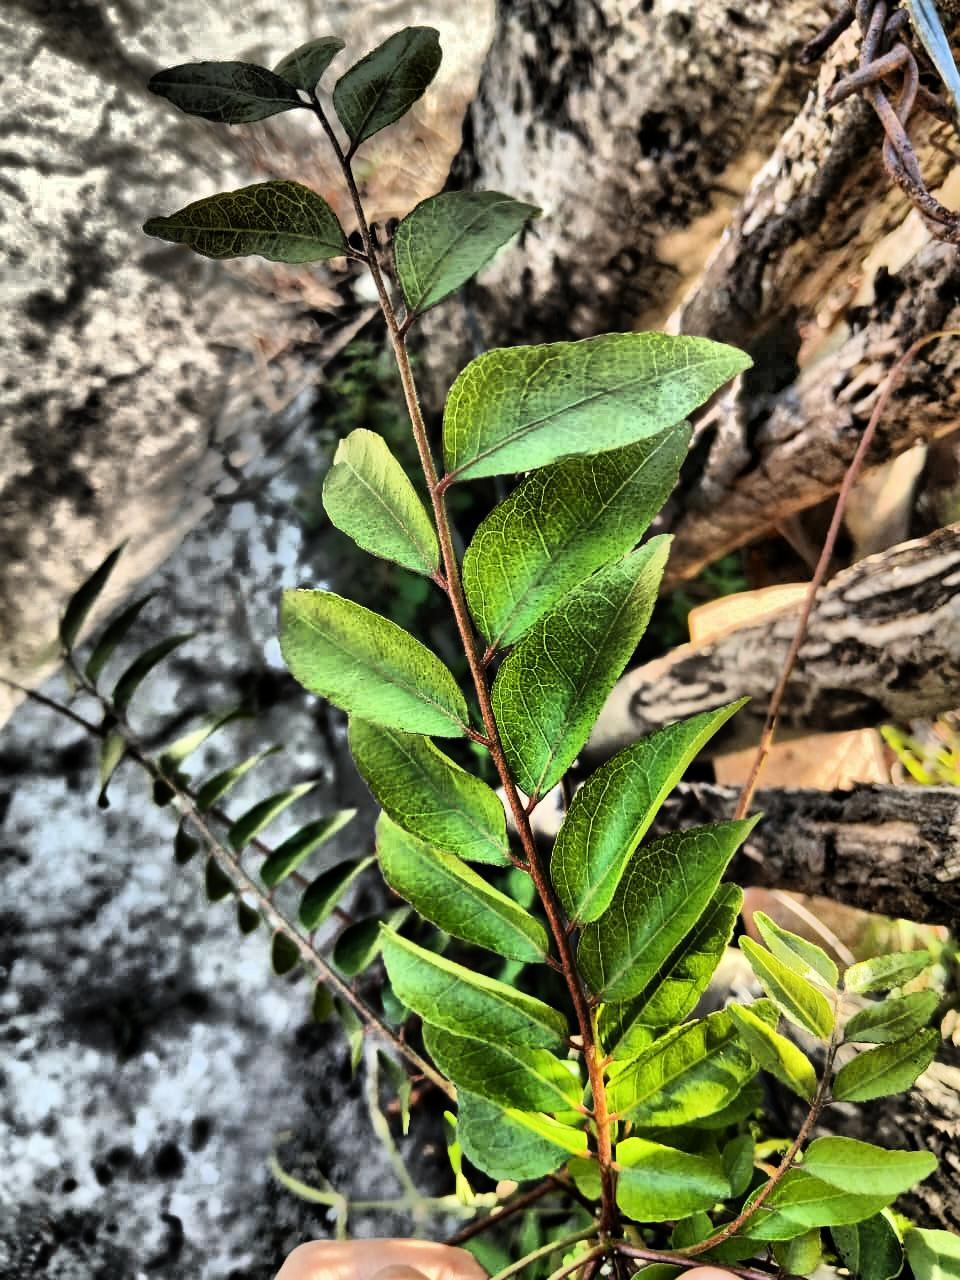daun kari: (144, 28, 956, 1279)
